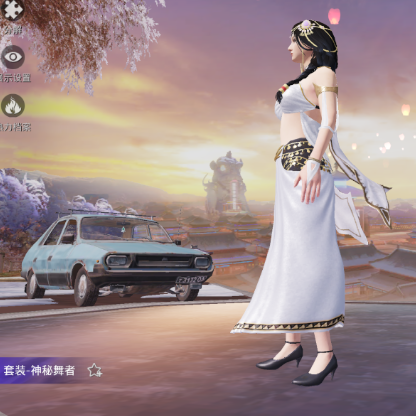ren: (252, 18, 351, 378)
tou: (288, 20, 337, 64)
